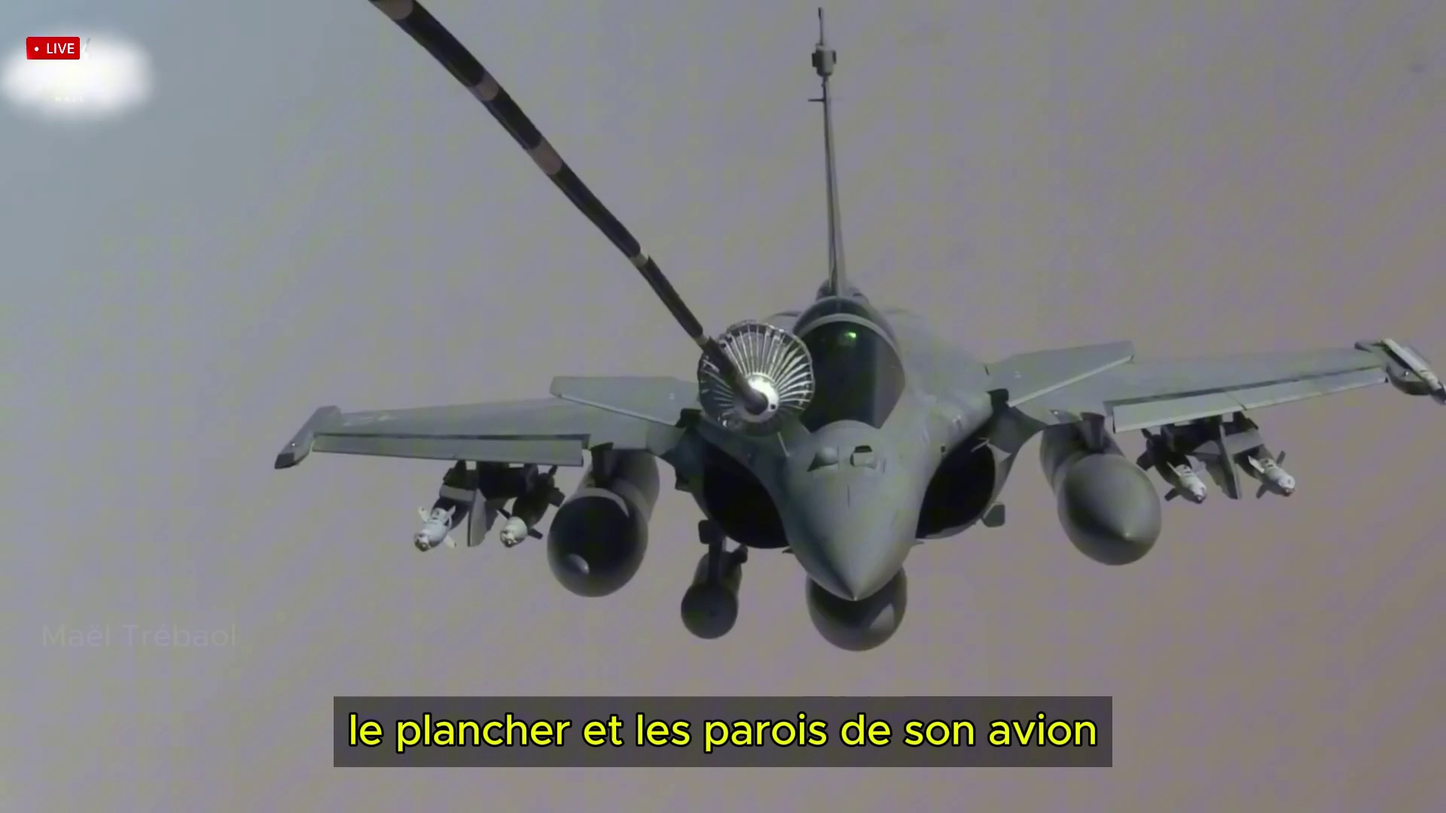Rafale: (261, 0, 1446, 663)
